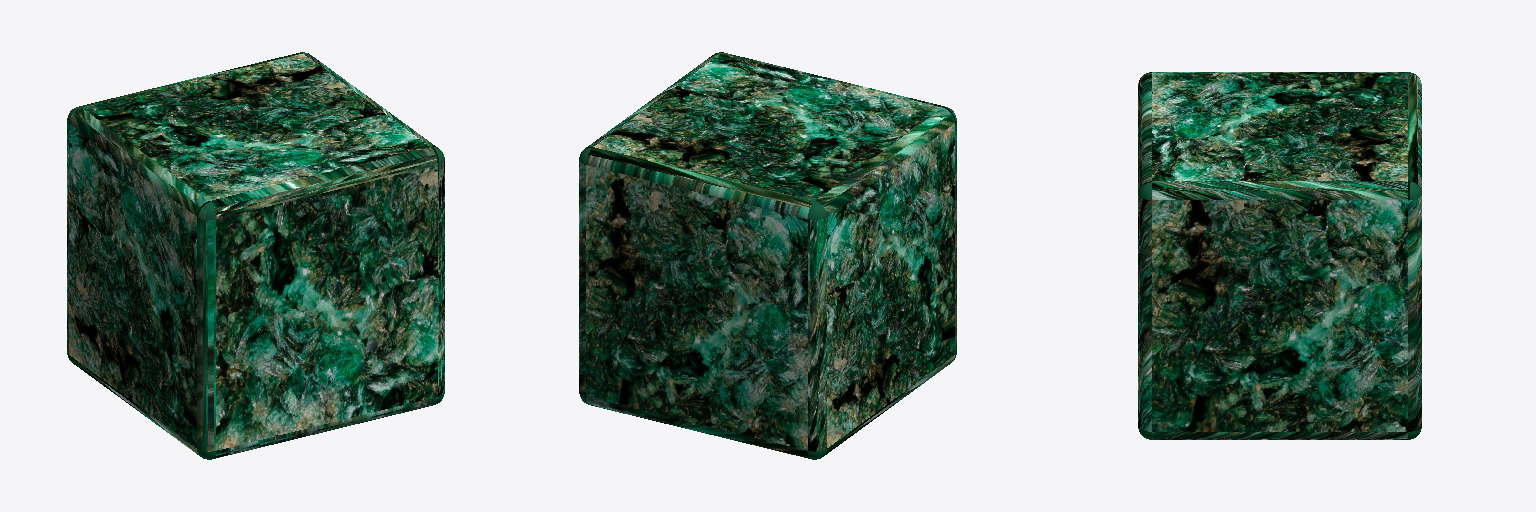
3 renders of one model, left to right at view 1: azimuth 30°, elevation 25°; view 2: azimuth 150°, elevation 25°; view 3: azimuth 270°, elevation 25°, orthographic.
Visible parts, largest first — view 1: Cube; view 2: Cube; view 3: Cube.
Boxes of the visible parts, box(x1,y1,x2,y2) form: Cube: box(67, 52, 444, 459); Cube: box(579, 52, 956, 459); Cube: box(1138, 72, 1421, 439).
Bounding box in the file's own units: 2 × 2 × 2.
Materials: 1 (1 with a texture image).